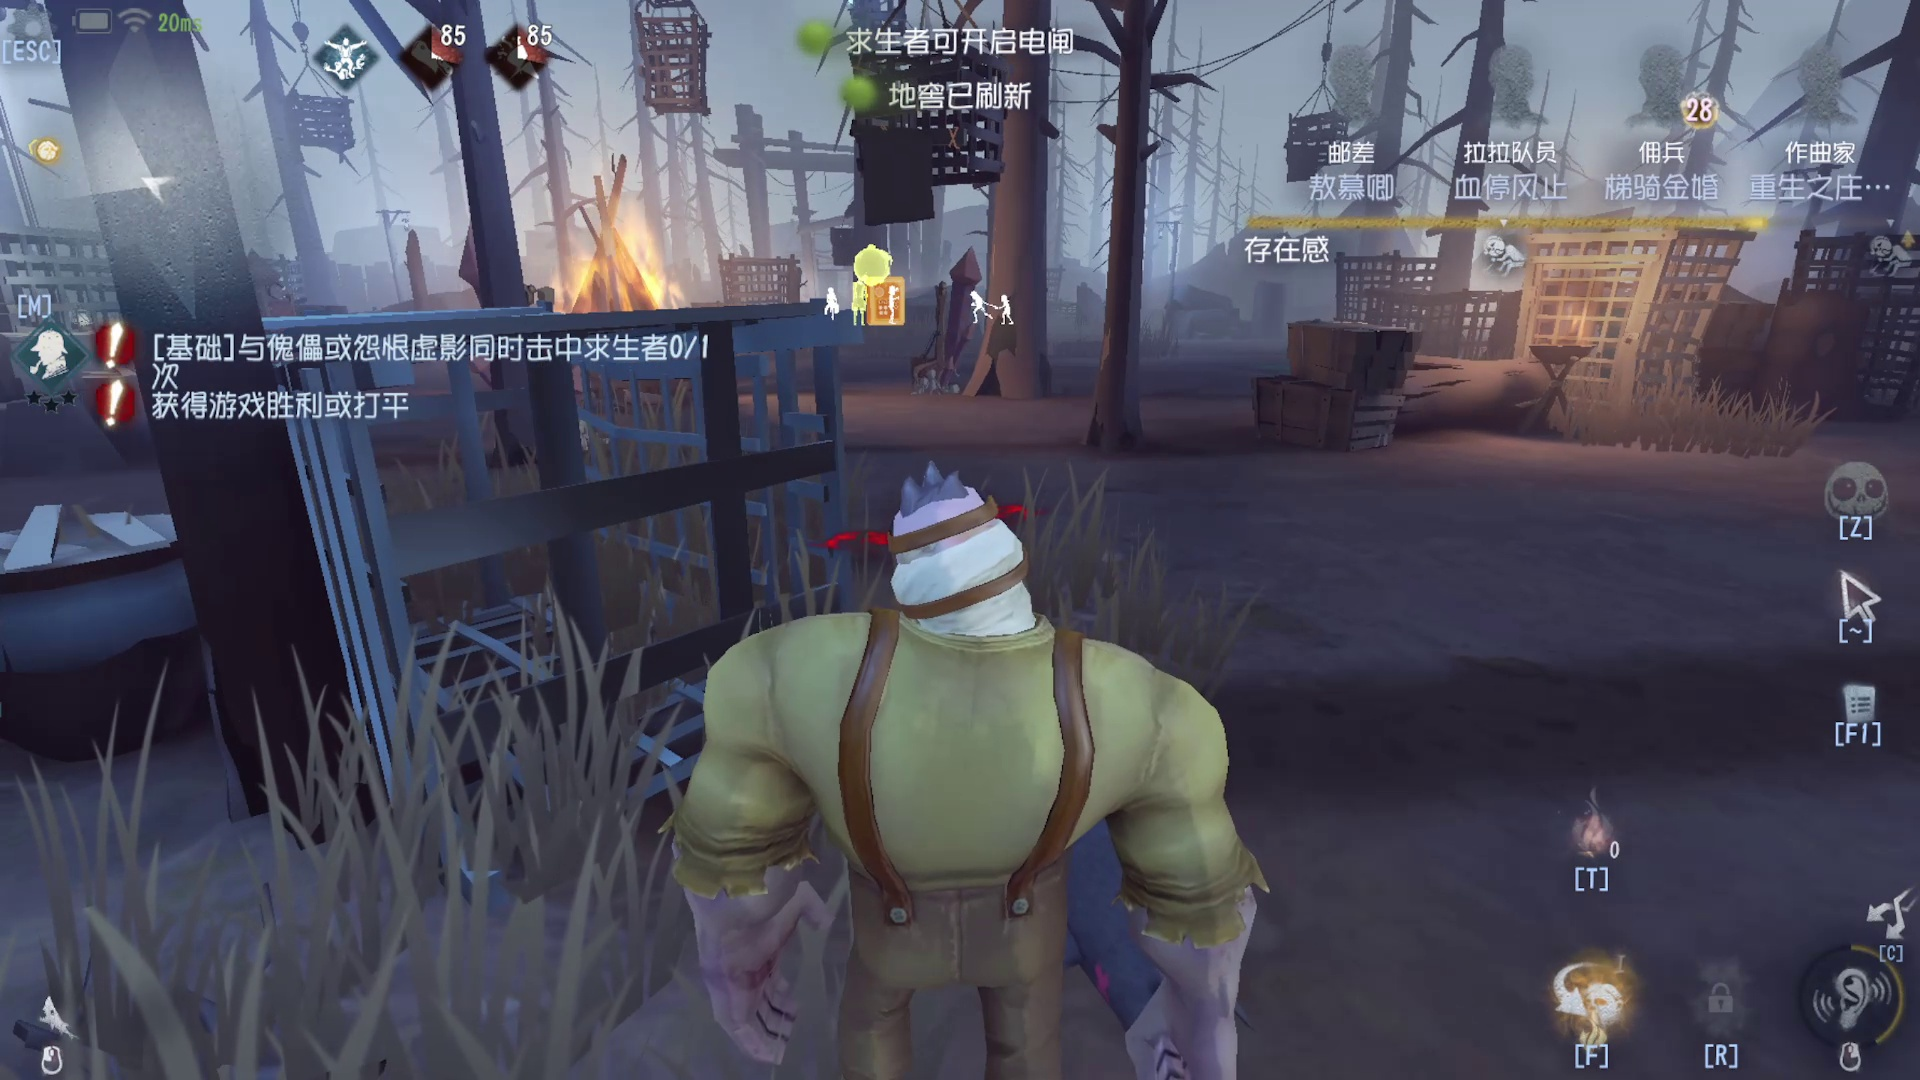狂欢之椅: (928, 255, 986, 405)
设置: (1, 1, 76, 71)
